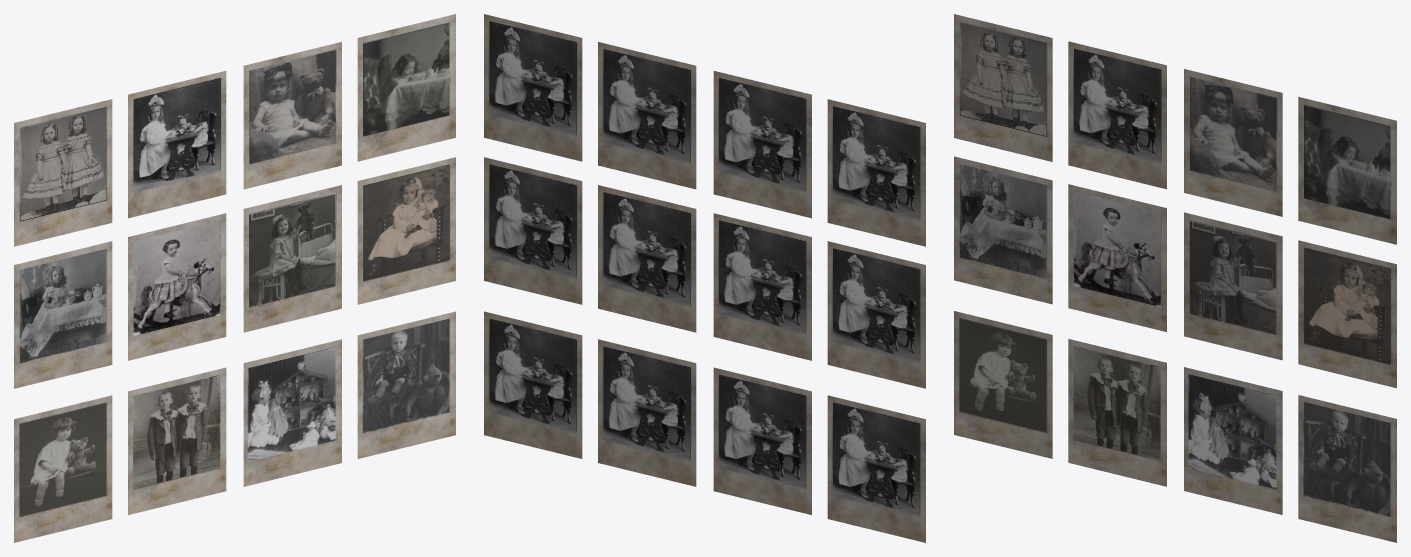
Rendered from Photos.fbx.
3 views of the same model, side by side, from view 1: azimuth 30°, elevation 25°; view 2: azimuth 150°, elevation 25°; view 3: azimuth 330°, elevation 25° (orthographic).
Visible parts, largest first — view 1: Plane, Plane.004, Plane.008, Plane.002, Plane.003, Plane.006, Plane.007, Plane.011, Plane.001, Plane.010, Plane.005, Plane.009; view 2: Plane, Plane.004, Plane.008, Plane.002, Plane.003, Plane.006, Plane.007, Plane.011, Plane.001, Plane.010, Plane.005, Plane.009; view 3: Plane.009, Plane.002, Plane.003, Plane.004, Plane.006, Plane.001, Plane.008, Plane.010, Plane.005, Plane.011, Plane, Plane.007.
Boxes of the visible parts, <box> form: Plane: <box>14,99,112,246</box>; Plane.004: <box>14,395,112,542</box>; Plane.008: <box>14,241,112,388</box>; Plane.002: <box>243,185,341,332</box>; Plane.003: <box>357,157,455,304</box>; Plane.006: <box>243,339,341,486</box>; Plane.007: <box>357,311,455,458</box>; Plane.011: <box>357,14,455,161</box>; Plane.001: <box>128,213,226,360</box>; Plane.010: <box>243,42,341,189</box>; Plane.005: <box>128,367,226,514</box>; Plane.009: <box>128,71,226,218</box>; Plane: <box>827,99,925,246</box>; Plane.004: <box>827,395,925,542</box>; Plane.008: <box>827,241,925,388</box>; Plane.002: <box>598,185,696,332</box>; Plane.003: <box>484,157,582,304</box>; Plane.006: <box>598,339,696,486</box>; Plane.007: <box>484,311,582,458</box>; Plane.011: <box>484,14,582,161</box>; Plane.001: <box>713,213,811,360</box>; Plane.010: <box>598,42,696,189</box>; Plane.005: <box>713,367,811,514</box>; Plane.009: <box>713,71,811,218</box>; Plane.009: <box>1068,41,1166,189</box>; Plane.002: <box>1184,212,1282,360</box>; Plane.003: <box>1298,240,1396,388</box>; Plane.004: <box>954,311,1052,458</box>; Plane.006: <box>1184,367,1282,514</box>; Plane.001: <box>1068,184,1166,331</box>; Plane.008: <box>954,156,1052,304</box>; Plane.010: <box>1184,69,1282,216</box>; Plane.005: <box>1068,339,1166,486</box>; Plane.011: <box>1298,97,1396,244</box>; Plane: <box>954,14,1052,161</box>; Plane.007: <box>1298,395,1396,542</box>.
Size of the model in its own units: 553 by 504 by 0.0013.
